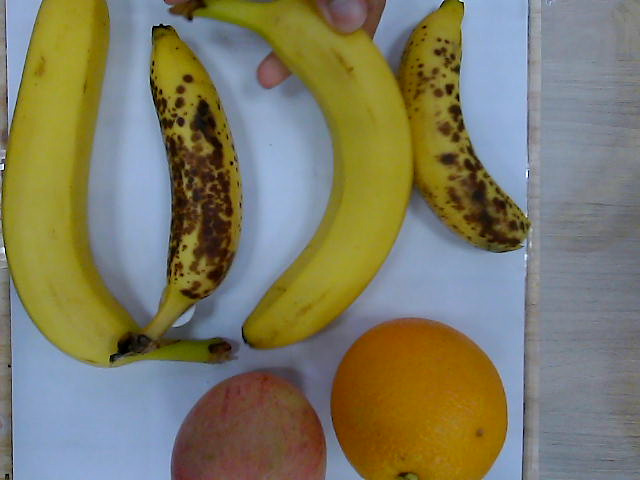fresh_apple: (171, 368, 324, 480)
fresh_banana: (236, 2, 413, 352), (1, 1, 145, 368)
fresh_orange: (331, 318, 510, 480)
rotten_banana: (139, 26, 244, 348), (399, 1, 533, 253)
